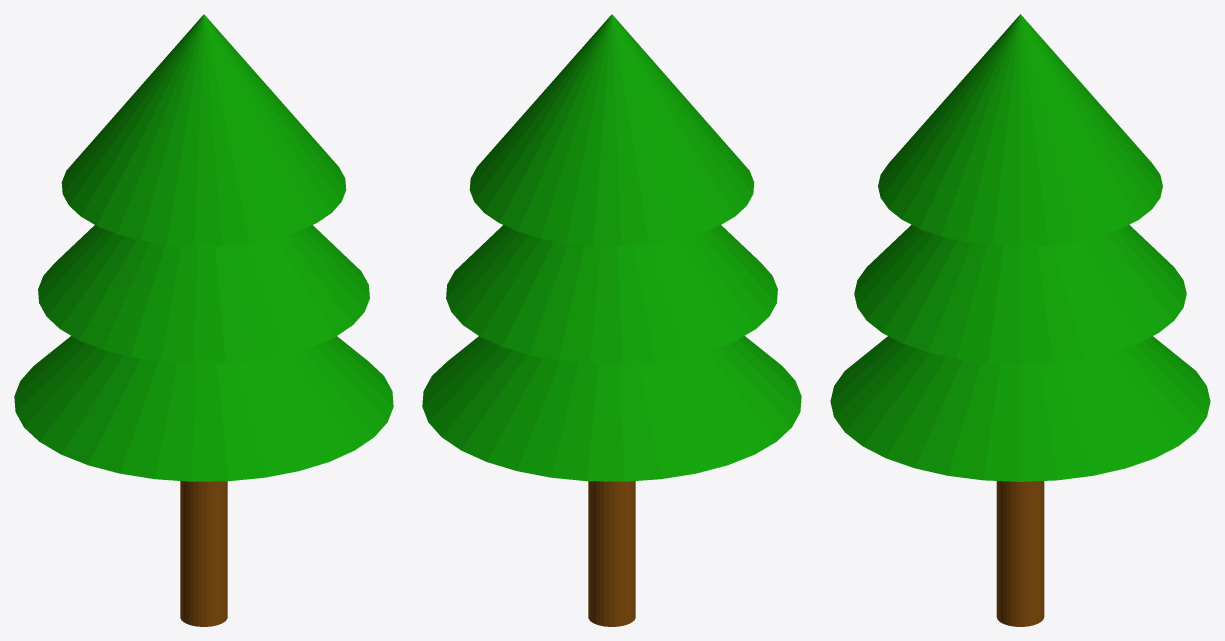
File: ツリー.fbx
3 renders of one model, left to right at view 1: azimuth 30°, elevation 25°; view 2: azimuth 150°, elevation 25°; view 3: azimuth 270°, elevation 25°, orthographic.
Parts seen in each view (by area): view 1: leaf.002, leaf, leaf.001, 木の幹; view 2: leaf.002, leaf, leaf.001, 木の幹; view 3: leaf.002, leaf, leaf.001, 木の幹.
Boxes of the visible parts, <box> form: leaf.002: <box>14,336,393,481</box>; leaf: <box>61,14,346,246</box>; leaf.001: <box>38,225,369,363</box>; 木の幹: <box>180,481,227,626</box>; leaf.002: <box>422,336,801,481</box>; leaf: <box>469,14,754,246</box>; leaf.001: <box>446,225,777,363</box>; 木の幹: <box>588,481,635,626</box>; leaf.002: <box>830,336,1210,481</box>; leaf: <box>878,14,1162,246</box>; leaf.001: <box>854,224,1186,364</box>; 木の幹: <box>996,481,1044,626</box>.
Bounding box in the file's own units: 800 × 1400 × 800.
